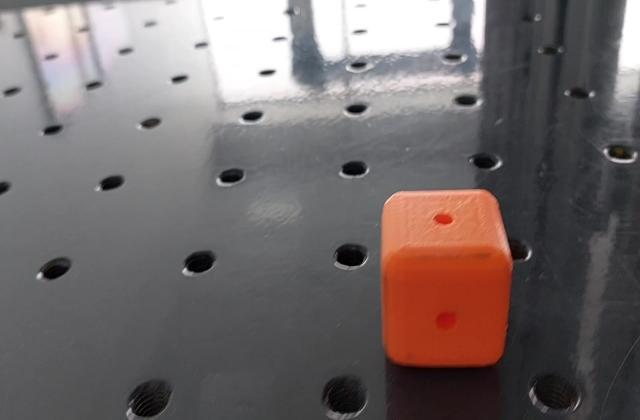cube: (376, 185, 514, 373)
